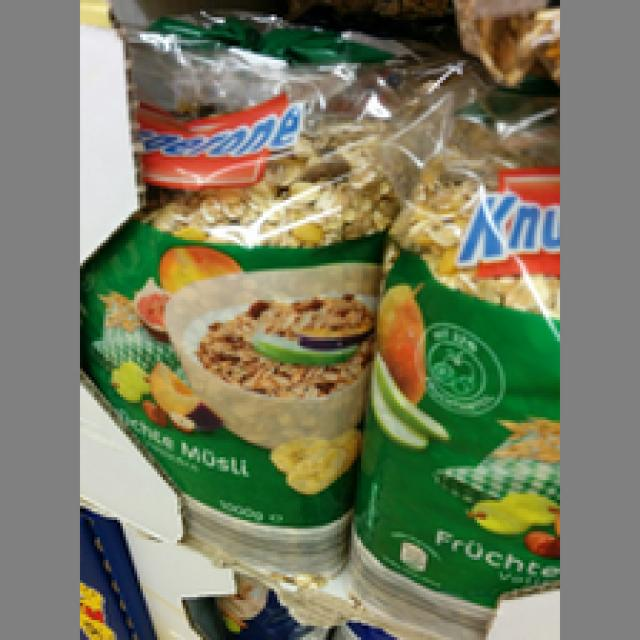groceries: (77, 37, 452, 566), (340, 125, 560, 626)
